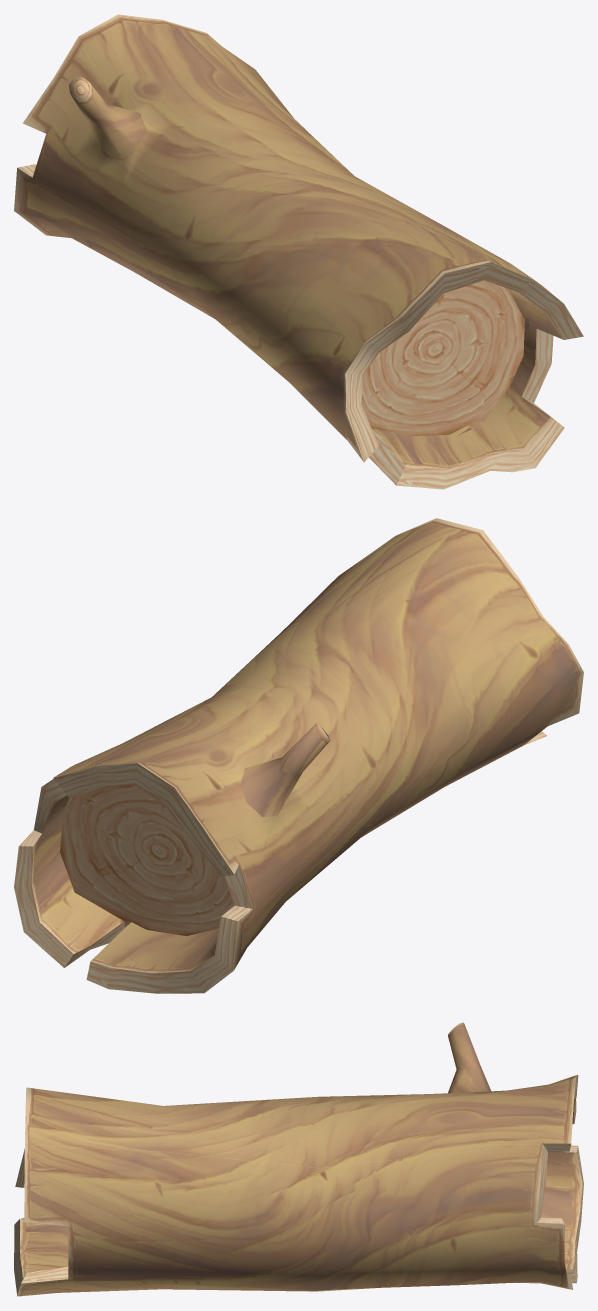
Rendered from SM_ENV_treetrunk_ancient_01.fbx.
The picture shows the model from 3 angles, top to bottom: view 1: azimuth 30°, elevation 25°; view 2: azimuth 150°, elevation 25°; view 3: azimuth 270°, elevation 25°; orthographic projection. The views are drawn at different scales.
Parts seen in each view (by area): view 1: SM_ENV_treetrunk_ancient_01_LOD0; view 2: SM_ENV_treetrunk_ancient_01_LOD0; view 3: SM_ENV_treetrunk_ancient_01_LOD0.
Boxes of the visible parts, box(x1,y1,x2,y2) form: SM_ENV_treetrunk_ancient_01_LOD0: box(14, 14, 583, 489); SM_ENV_treetrunk_ancient_01_LOD0: box(14, 518, 583, 993); SM_ENV_treetrunk_ancient_01_LOD0: box(14, 1022, 583, 1296).
Size of what is drawn, in the model's own units: 90.78 by 84.19 by 217.
